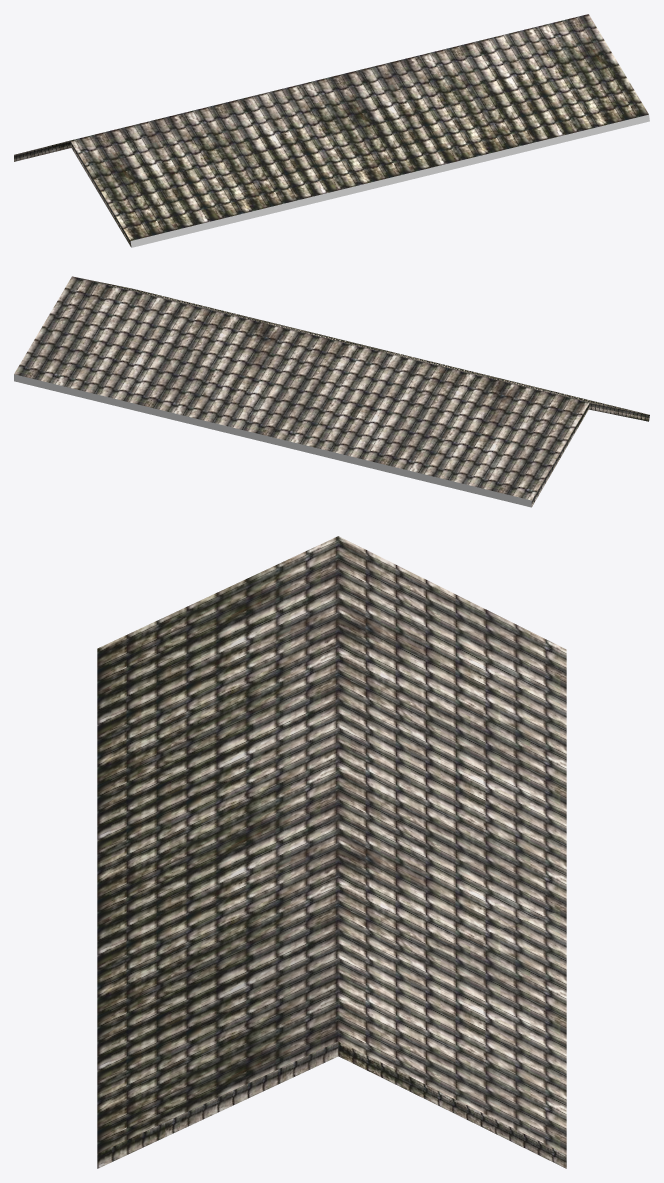
The picture shows the model from 3 angles, top to bottom: view 1: azimuth 30°, elevation 25°; view 2: azimuth 150°, elevation 25°; view 3: azimuth 270°, elevation 25°; orthographic projection. The views are drawn at different scales.
Parts seen in each view (by area): view 1: Object07; view 2: Object07; view 3: Object07.
Part boxes in pixels (bbox=[...]): Object07: bbox=[14, 14, 649, 247]; Object07: bbox=[14, 276, 649, 507]; Object07: bbox=[97, 536, 566, 1168].
Size of the model in its own units: 289 by 33.77 by 113.
